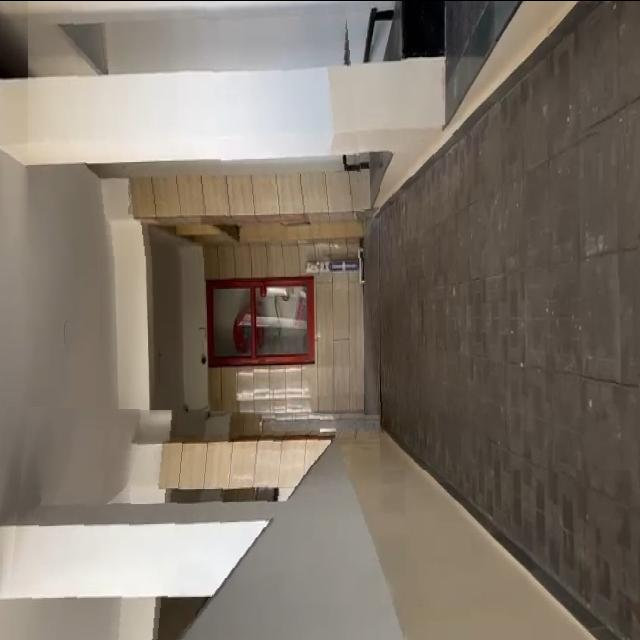floor: (380, 121, 640, 469)
wall: (5, 406, 405, 640), (28, 0, 370, 260)
